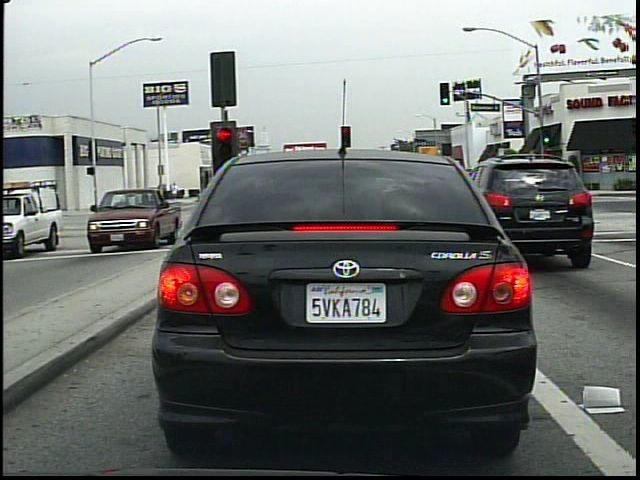person: (164, 174, 185, 203)
